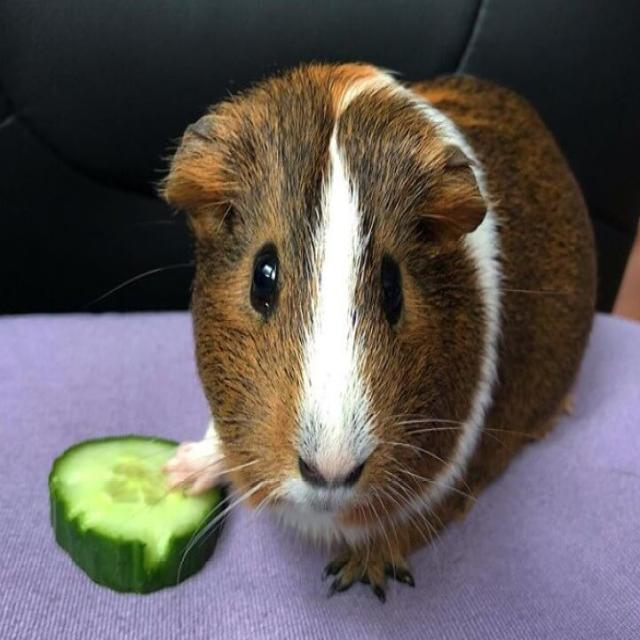guinea pig: (162, 62, 596, 601)
